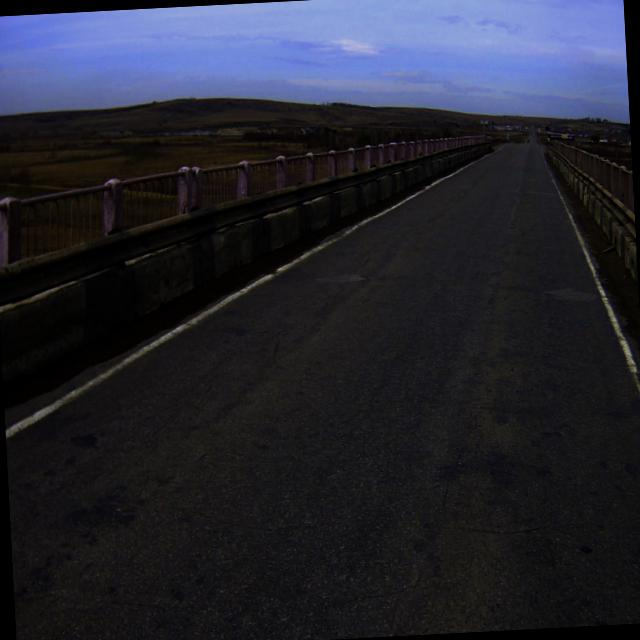road: (5, 142, 640, 640)
